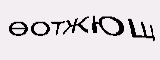Ж: (62, 15, 89, 35)
О: (30, 21, 50, 36)
Т: (49, 18, 65, 37)
Щ: (127, 18, 154, 41)
Ю: (90, 14, 125, 38)
Ө: (6, 21, 28, 36)
